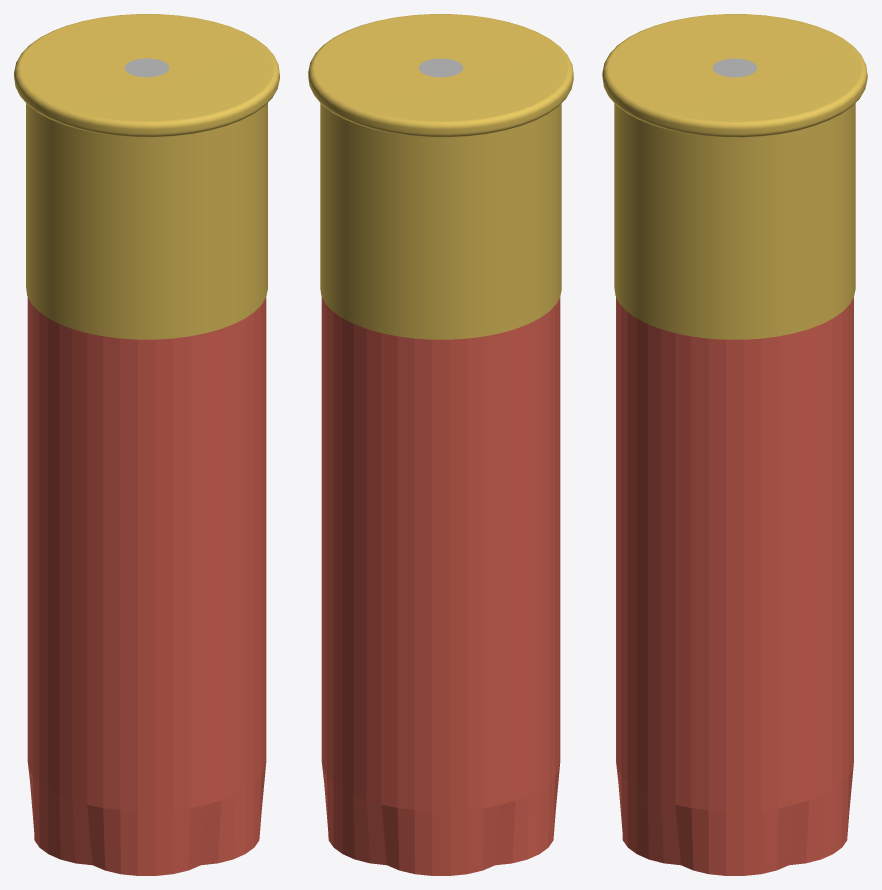
File: FiredShotgunShell.fbx
3 renders of one model, left to right at view 1: azimuth 30°, elevation 25°; view 2: azimuth 150°, elevation 25°; view 3: azimuth 270°, elevation 25°, orthographic.
Visible parts, largest first — view 1: Shotgun shell fired; view 2: Shotgun shell fired; view 3: Shotgun shell fired.
Boxes of the visible parts, bbox=[...] form: Shotgun shell fired: bbox=[14, 14, 279, 875]; Shotgun shell fired: bbox=[308, 14, 573, 875]; Shotgun shell fired: bbox=[602, 14, 867, 875].
Bounding box in the file's own units: 0.0225 × 0.0711 × 0.0225.
